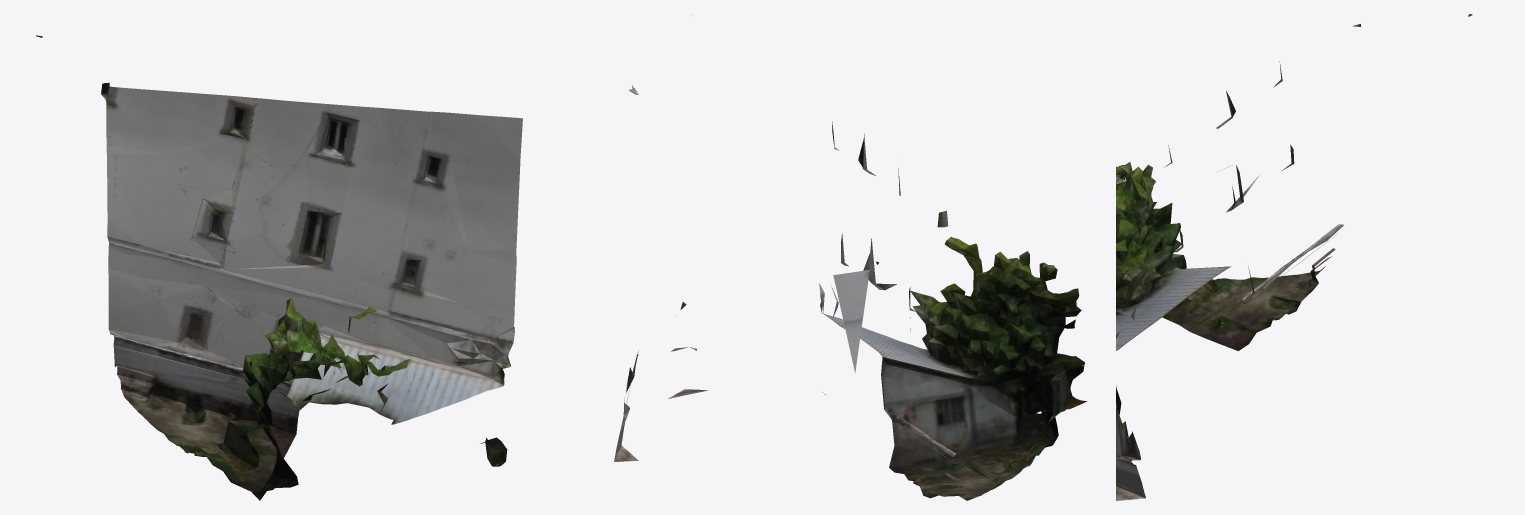
3 views of the same model, side by side, from view 1: azimuth 30°, elevation 25°; view 2: azimuth 150°, elevation 25°; view 3: azimuth 270°, elevation 25° (orthographic). The views are drawn at different scales.
Bounding box in the file's own units: 13.4 × 11.98 × 13.4.
Materials: 3 (3 with a texture image).
